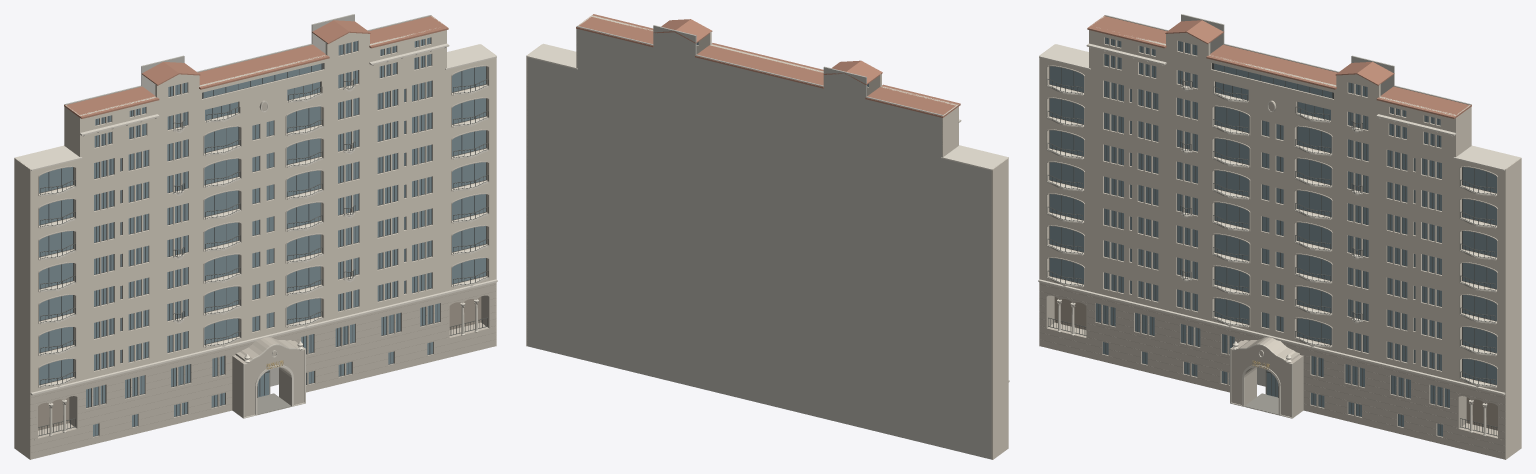
Rendered from jingan-haig-apartments-garden-front-lod.glb.
3 views of the same model, side by side, from view 1: azimuth 30°, elevation 25°; view 2: azimuth 150°, elevation 25°; view 3: azimuth 330°, elevation 25° (orthographic).
Visible parts, largest first — view 1: 海格公寓主楼南向花园立面; view 2: 海格公寓主楼南向花园立面; view 3: 海格公寓主楼南向花园立面.
Boxes of the visible parts, x1,y1,x2,y2 form: 海格公寓主楼南向花园立面: (14, 14, 497, 459); 海格公寓主楼南向花园立面: (526, 14, 1009, 459); 海格公寓主楼南向花园立面: (1038, 14, 1521, 459).
Size of the model in its own units: 52.88 by 38.06 by 5.48.
